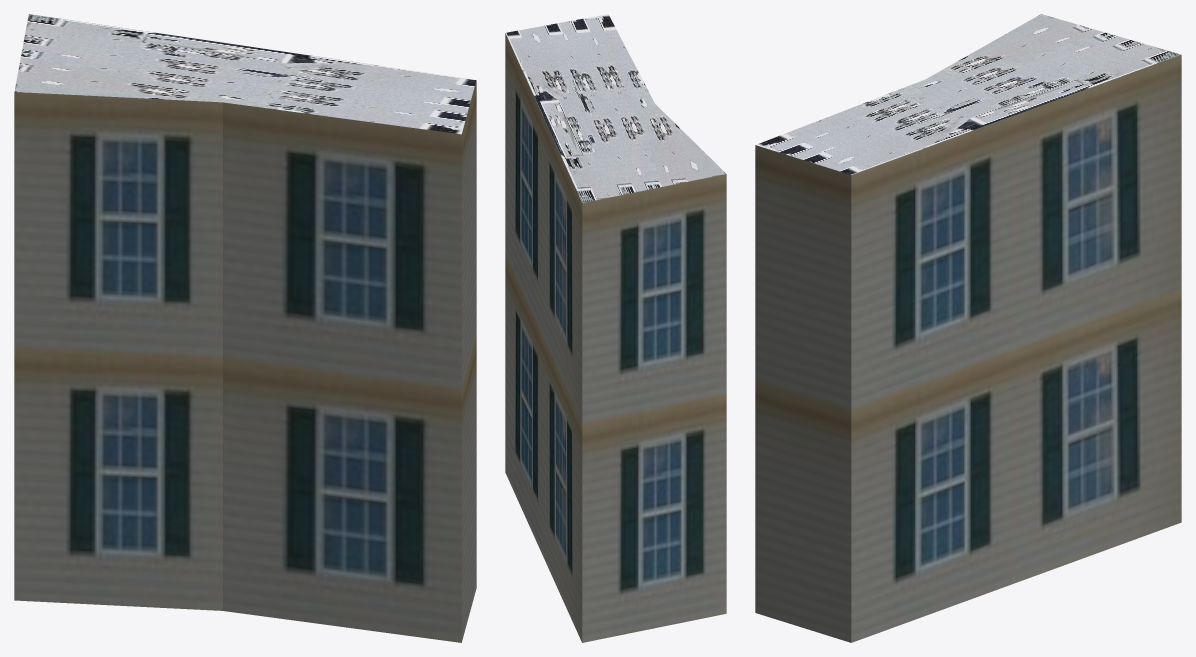
Rendered from ResTex__2974.fbx.
3 renders of one model, left to right at view 1: azimuth 30°, elevation 25°; view 2: azimuth 150°, elevation 25°; view 3: azimuth 270°, elevation 25°, orthographic. The views are drawn at different scales.
Visible parts, largest first — view 1: CityEngineMaterial_7_m, CityEngineMaterial_8_m; view 2: CityEngineMaterial_7_m, CityEngineMaterial_8_m; view 3: CityEngineMaterial_7_m, CityEngineMaterial_8_m.
Part boxes in pixels (box(x1,y1,x2,y2)): CityEngineMaterial_7_m: box(14, 80, 476, 642); CityEngineMaterial_8_m: box(14, 14, 476, 134); CityEngineMaterial_7_m: box(505, 33, 726, 642); CityEngineMaterial_8_m: box(505, 14, 725, 202); CityEngineMaterial_7_m: box(755, 55, 1181, 642); CityEngineMaterial_8_m: box(756, 14, 1180, 174).
Bounding box in the file's own units: 4.43 × 6 × 4.95.
2 materials, 2 textured.
